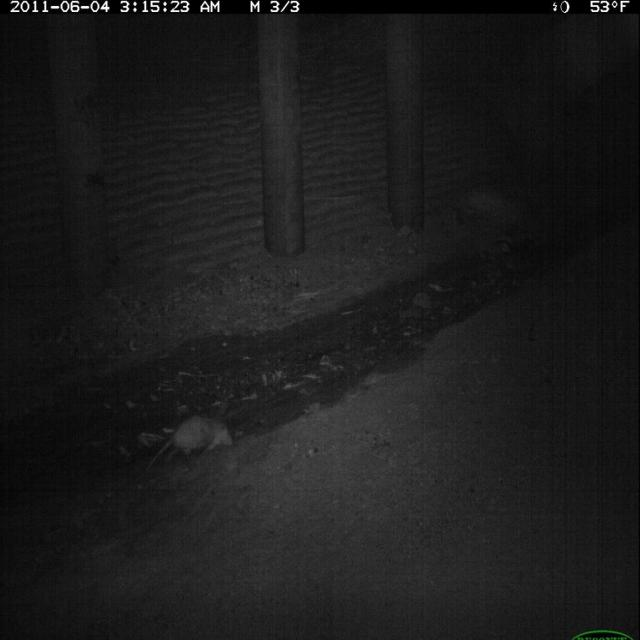opossum: (144, 409, 238, 473)
